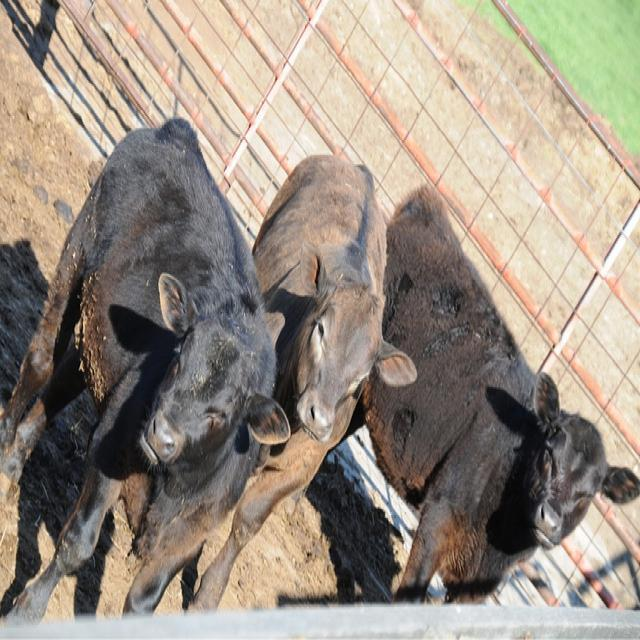cow: (0, 117, 293, 622), (345, 174, 639, 609), (187, 152, 418, 611)
